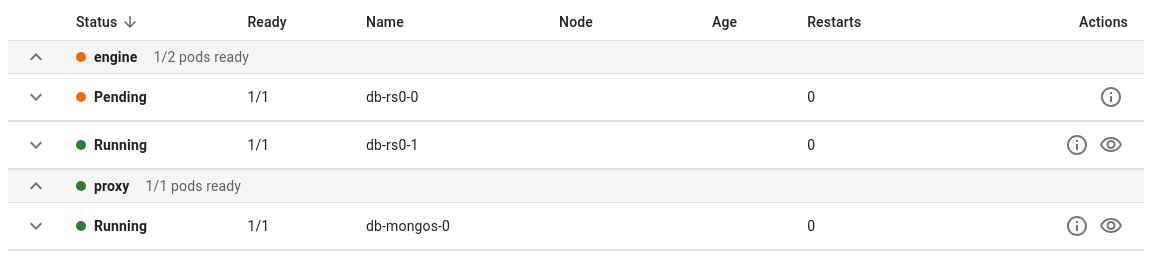
Test: ComponentsTableView › hides and shows the pods of a group
Click the button named "Hide pods" next to "engine".
click(36, 57)  # box [24, 45, 48, 69]
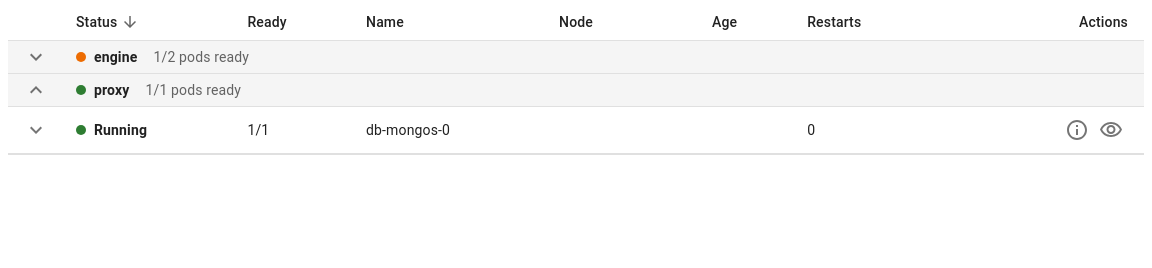
Expected: the text "db-mongos-0" is shown, [350, 107, 543, 154]
Expected: the text "db-rs0-0" is gone
Click the button named "Show pods".
click(36, 57)  # box [24, 45, 48, 69]
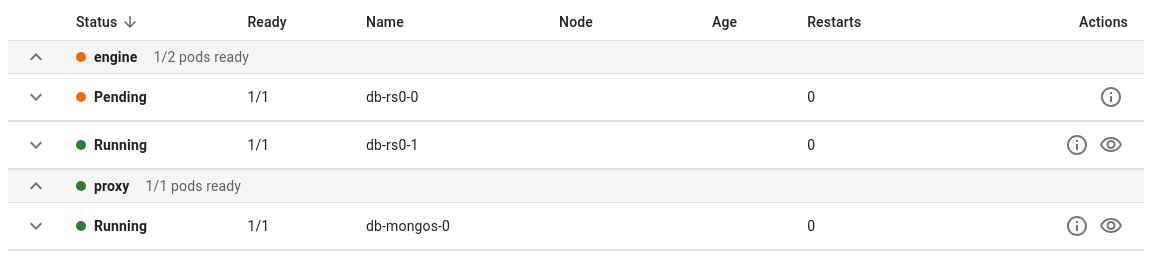
Expected: the text "db-rs0-0" is shown, [350, 74, 543, 121]
